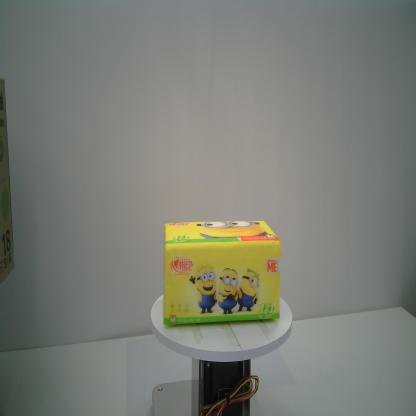Tissue: (162, 219, 282, 325)
